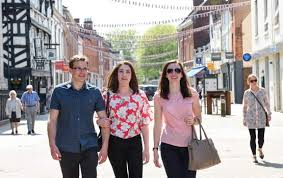no-mask: (66, 53, 94, 85), (110, 59, 137, 88), (162, 60, 186, 85), (247, 73, 261, 90)
